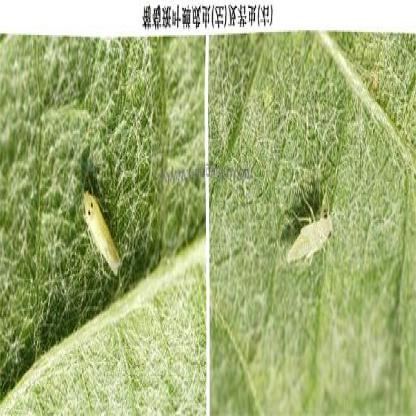green-leafhopper: (286, 186, 335, 271), (81, 180, 122, 275)
